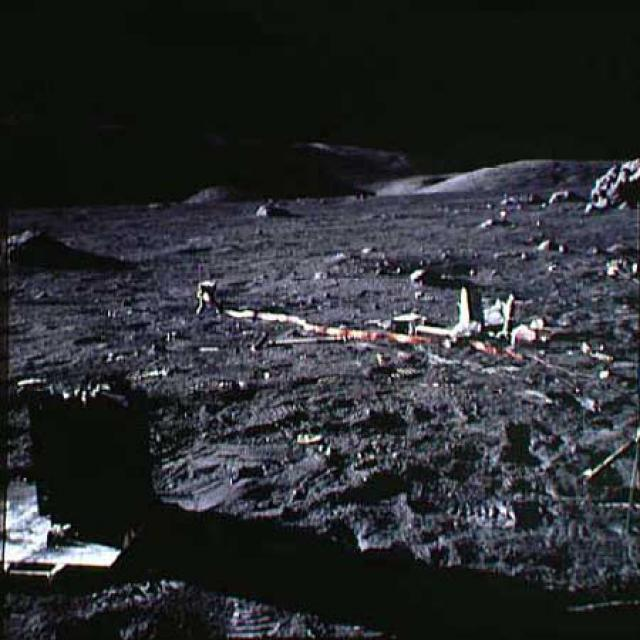artifact: (0, 358, 174, 594), (475, 388, 639, 535), (364, 277, 557, 371), (183, 252, 230, 312)
crater: (328, 237, 608, 285)
rock: (2, 214, 137, 272), (583, 151, 639, 218), (185, 172, 248, 209), (245, 196, 296, 224), (540, 179, 582, 210)
